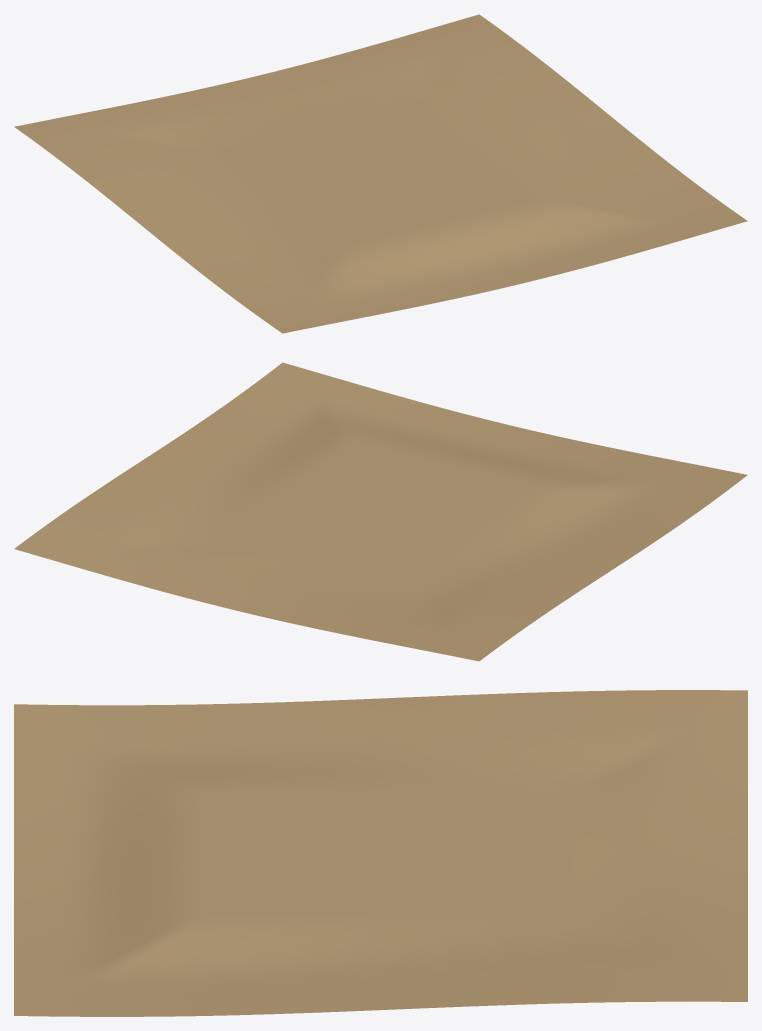
The model's file is ENV_Terrain.glb.
3 renders of one model, top to bottom at view 1: azimuth 30°, elevation 25°; view 2: azimuth 150°, elevation 25°; view 3: azimuth 270°, elevation 25°, orthographic. The views are drawn at different scales.
Visible parts, largest first — view 1: Asset; view 2: Asset; view 3: Asset.
Part boxes in pixels (x1=…): Asset: x1=14, y1=14, x2=747, y2=333; Asset: x1=14, y1=362, x2=747, y2=661; Asset: x1=14, y1=690, x2=747, y2=1016.
Size of the model in its own units: 48 by 1.92 by 48.
